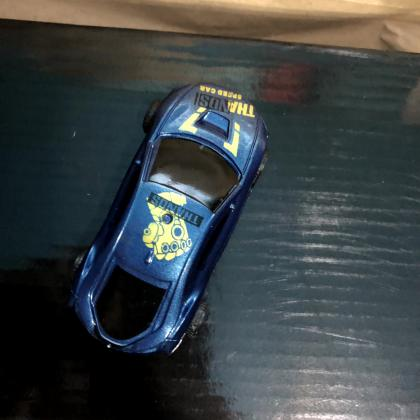Car: (65, 81, 272, 360)
